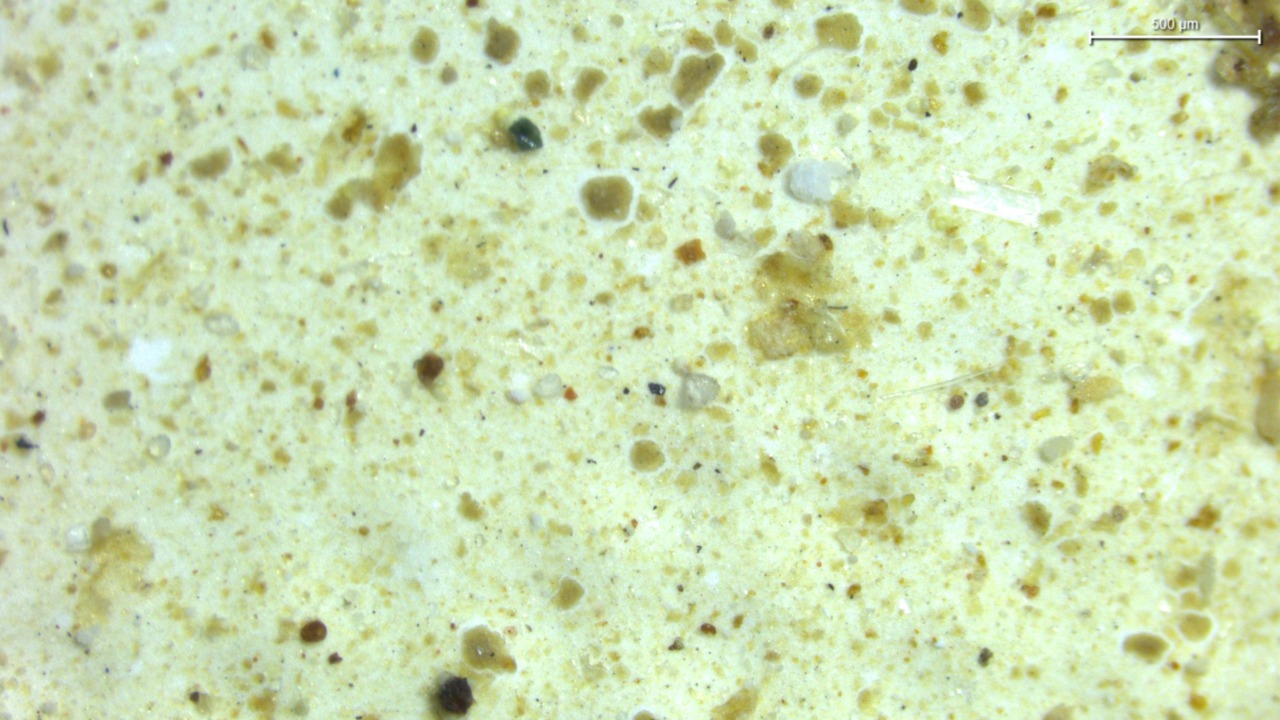microplastic_fragment: (782, 158, 849, 204), (679, 372, 719, 408), (532, 373, 565, 398)
